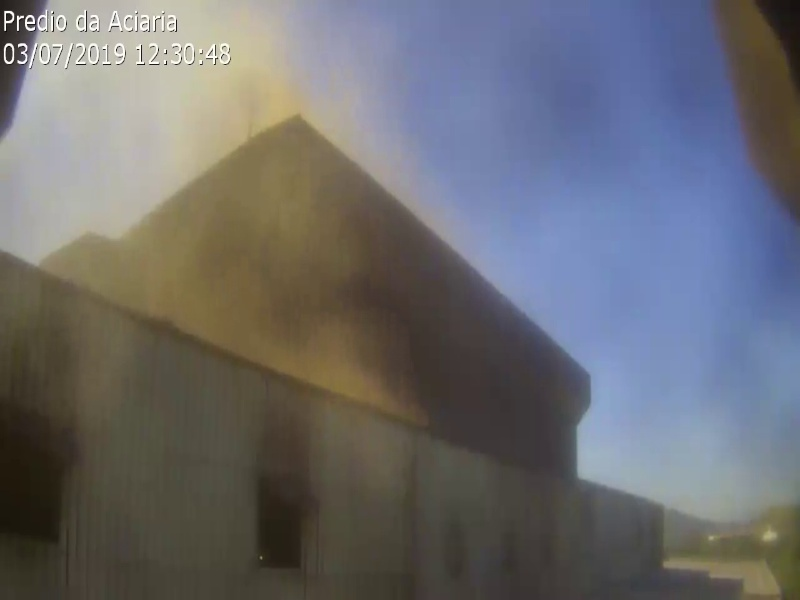Pessimo: (174, 64, 274, 131), (227, 47, 327, 114), (133, 243, 210, 300), (172, 270, 249, 327), (222, 299, 299, 356), (276, 320, 353, 377), (322, 338, 399, 395), (69, 223, 146, 280), (149, 199, 226, 256), (199, 166, 276, 223), (223, 220, 300, 277), (273, 205, 350, 262)
